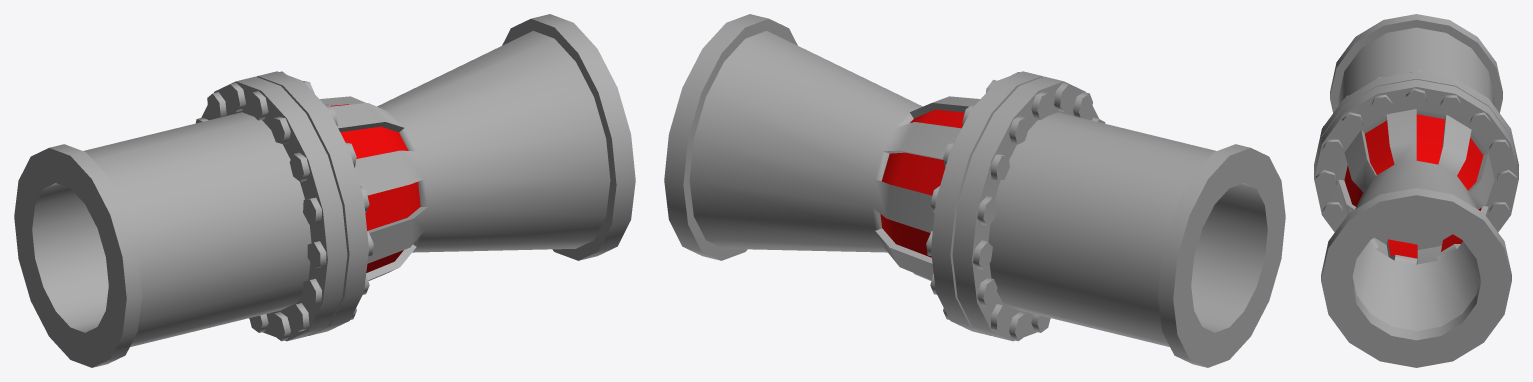
File: LanceFlamme.fbx
3 views of the same model, side by side, from view 1: azimuth 30°, elevation 25°; view 2: azimuth 150°, elevation 25°; view 3: azimuth 270°, elevation 25° (orthographic). The views are drawn at different scales.
Visible parts, largest first — view 1: clou3; view 2: clou3; view 3: clou3.
Part boxes in pixels (box(x1,y1,x2,y2)): clou3: box(14, 14, 635, 367); clou3: box(664, 14, 1285, 367); clou3: box(1314, 14, 1518, 367).
Bounding box in the file's own units: 113 × 51.52 × 51.52.
